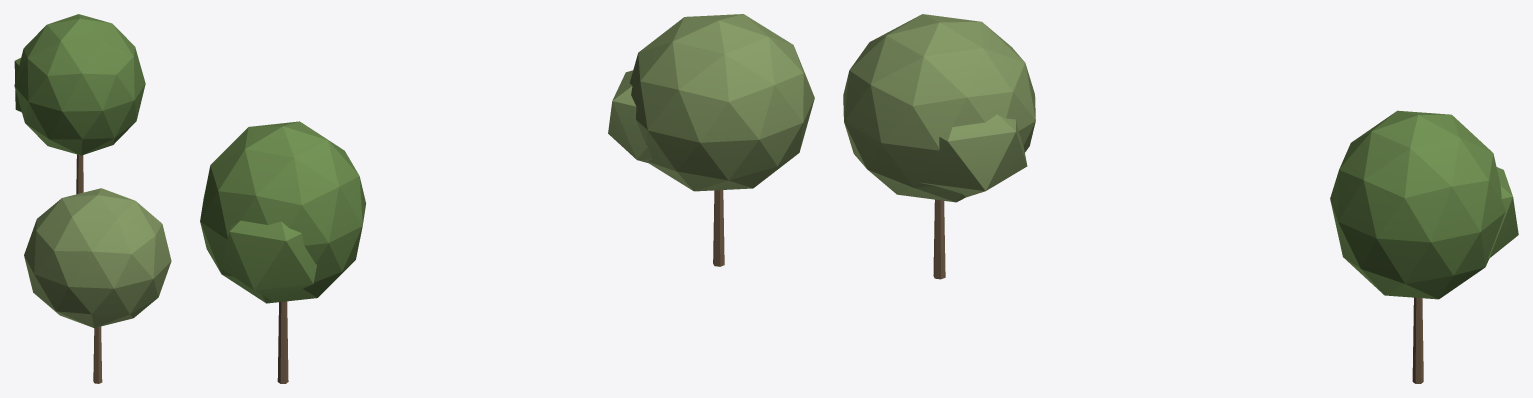
3 renders of one model, left to right at view 1: azimuth 30°, elevation 25°; view 2: azimuth 150°, elevation 25°; view 3: azimuth 270°, elevation 25°, orthographic. The views are drawn at different scales.
Parts seen in each view (by area): view 1: tree_5562, tree_5567; view 2: tree_5562, tree_5567; view 3: tree_5562, tree_5567.
Boxes of the visible parts, left/top/right/bottom form: tree_5562: left=24, top=188, right=171, bottom=383; tree_5567: left=14, top=14, right=145, bottom=194; tree_5562: left=608, top=14, right=814, bottom=266; tree_5567: left=200, top=121, right=366, bottom=383; tree_5562: left=843, top=14, right=1035, bottom=279; tree_5567: left=1330, top=110, right=1518, bottom=383.
Size of the model in its own units: 15.28 by 10.27 by 23.57.
